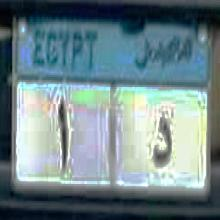1: (56, 97, 72, 173)
daal: (151, 109, 174, 170)
